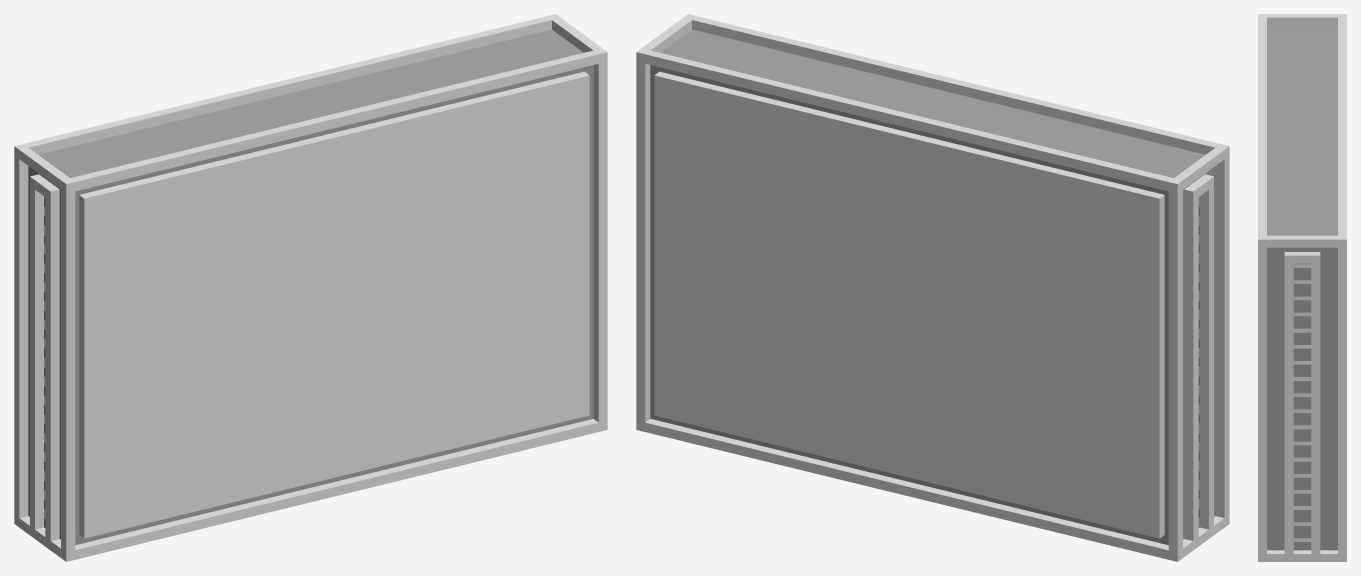
The model's file is Main Hall Wall 3.obj.
3 views of the same model, side by side, from view 1: azimuth 30°, elevation 25°; view 2: azimuth 150°, elevation 25°; view 3: azimuth 270°, elevation 25° (orthographic). The views are drawn at different scales.
Size of the model in its own units: 60 by 40 by 10.
1 material, 1 textured.
